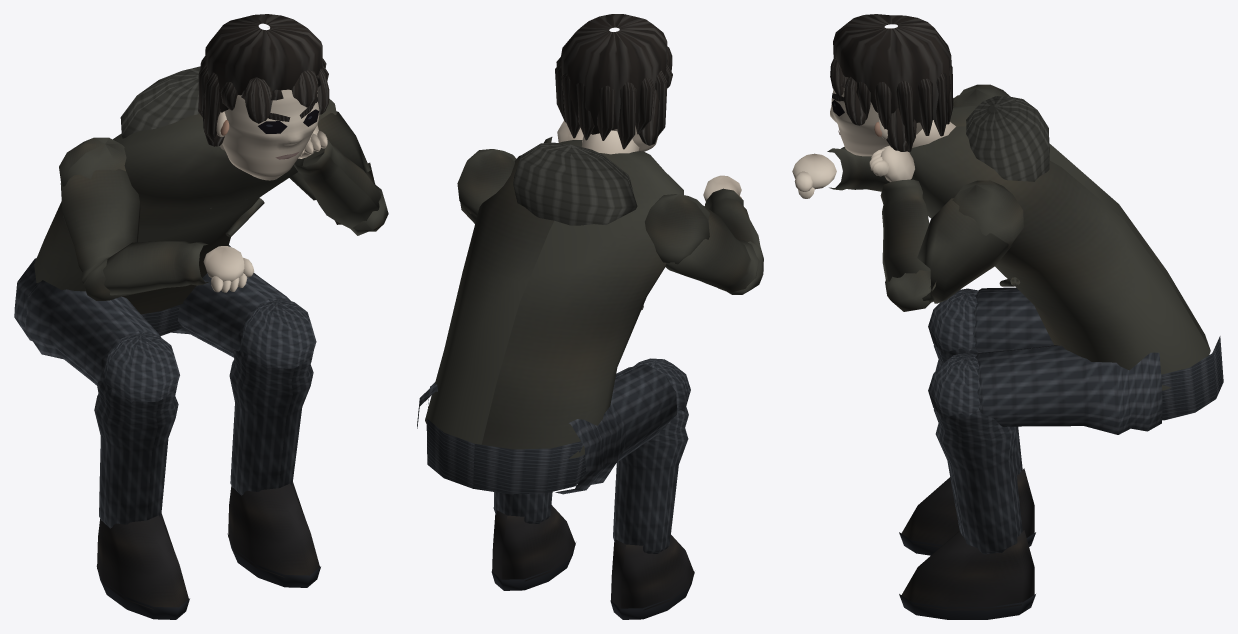
File: HERO-07_zheka-resting.glb
The picture shows the model from 3 angles, left to right: view 1: azimuth 30°, elevation 25°; view 2: azimuth 150°, elevation 25°; view 3: azimuth 270°, elevation 25°; orthographic projection. The views are drawn at different scales.
Visible parts, largest first — view 1: Жека · голова на руках; view 2: Жека · голова на руках; view 3: Жека · голова на руках.
Part boxes in pixels (left/top/right/bottom): Жека · голова на руках: left=14, top=14, right=388, bottom=619; Жека · голова на руках: left=417, top=14, right=763, bottom=619; Жека · голова на руках: left=792, top=14, right=1223, bottom=619.
Bounding box in the file's own units: 0.6821 × 1.23 × 0.8634.
Materials: 2 (2 with a texture image).
